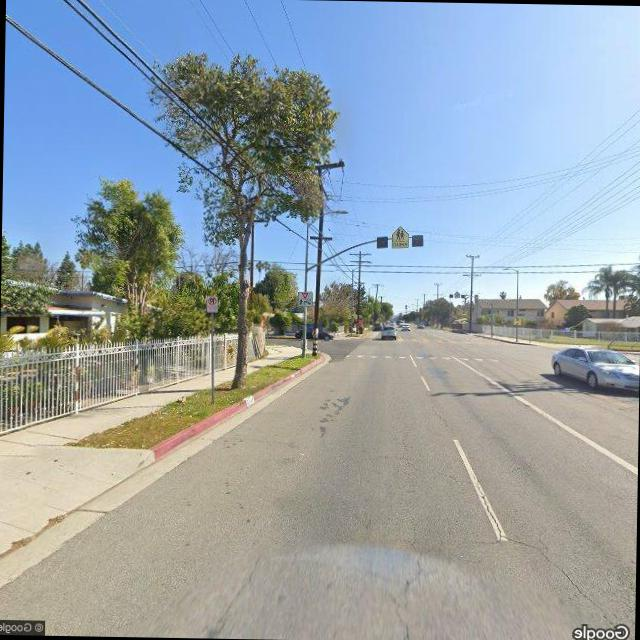pothole: (466, 462, 620, 638)
